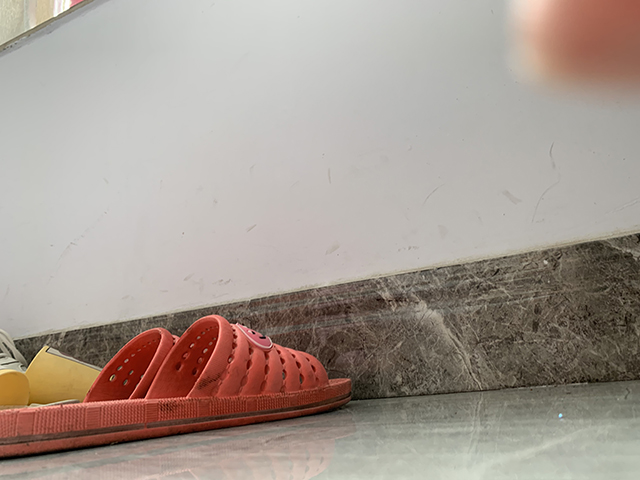slippers: (1, 313, 354, 461)
